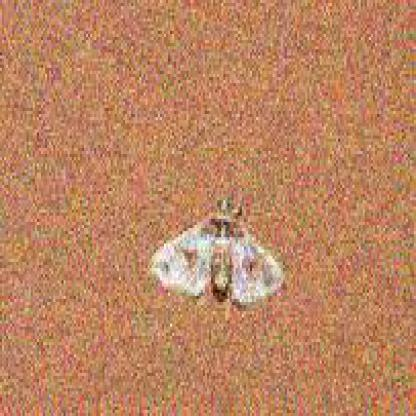leucinodes: (145, 201, 286, 307)
